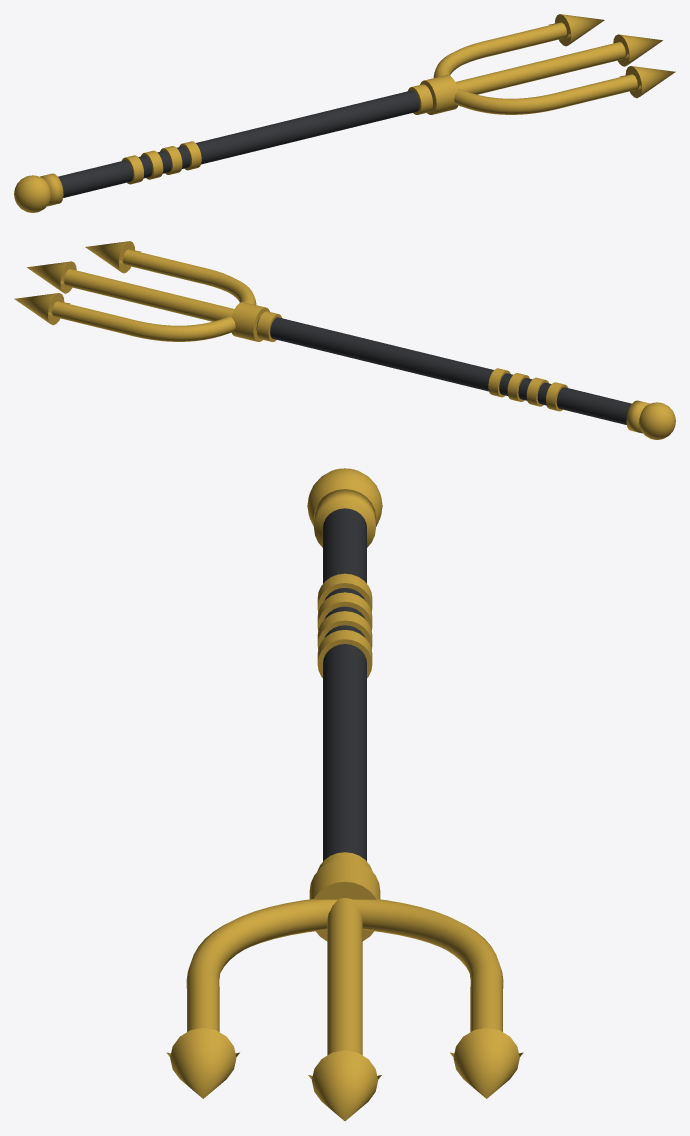
File: trident.glb
3 renders of one model, top to bottom at view 1: azimuth 30°, elevation 25°; view 2: azimuth 150°, elevation 25°; view 3: azimuth 270°, elevation 25°, orthographic. The views are drawn at different scales.
Visible parts, largest first — view 1: Prong, Shaft, Tip, Pommel, Wrap, Collar; view 2: Prong, Shaft, Tip, Pommel, Wrap, Collar; view 3: Prong, Shaft, Tip, Wrap, Pommel, Collar.
Boxes of the visible parts, x1=… form: Prong: x1=433, y1=22, x2=637, y2=114; Shaft: x1=58, y1=90, x2=433, y2=197; Tip: x1=554, y1=14, x2=675, y2=98; Pommel: x1=14, y1=173, x2=63, y2=212; Wrap: x1=121, y1=141, x2=201, y2=184; Collar: x1=408, y1=75, x2=458, y2=114; Prong: x1=52, y1=249, x2=256, y2=341; Shaft: x1=256, y1=317, x2=631, y2=424; Tip: x1=14, y1=241, x2=135, y2=325; Pommel: x1=626, y1=400, x2=675, y2=439; Wrap: x1=488, y1=368, x2=568, y2=411; Collar: x1=231, y1=302, x2=281, y2=341; Prong: x1=186, y1=898, x2=503, y2=1055; Shaft: x1=323, y1=508, x2=366, y2=861; Tip: x1=170, y1=1028, x2=519, y2=1120; Wrap: x1=317, y1=573, x2=372, y2=677; Pommel: x1=307, y1=468, x2=382, y2=547; Collar: x1=309, y1=852, x2=380, y2=941.
Bounding box in the file's own units: 3.38 × 0.17 × 0.8078.
